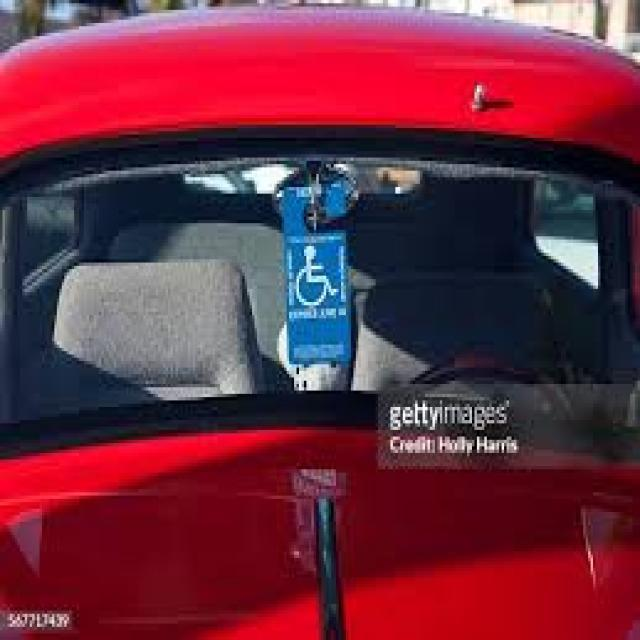symbol_of_access: (296, 247, 334, 306)
